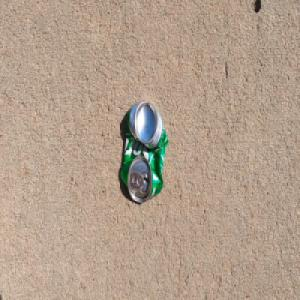SodaCan: (120, 100, 169, 205)
